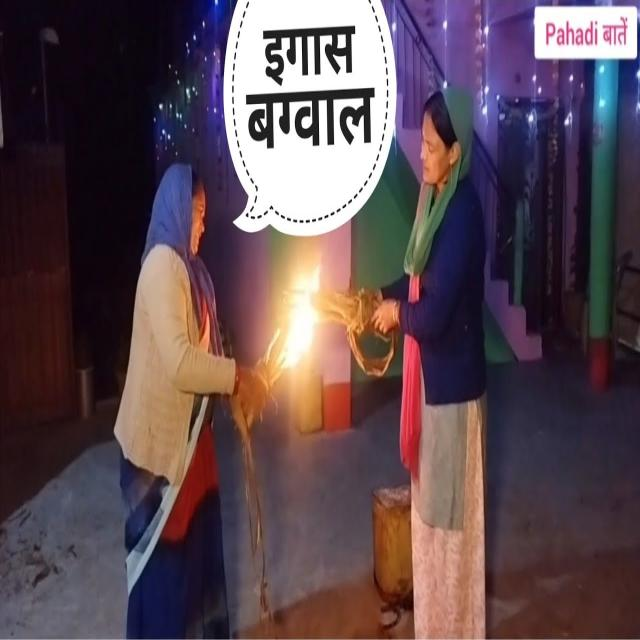fire: (277, 260, 320, 370)
